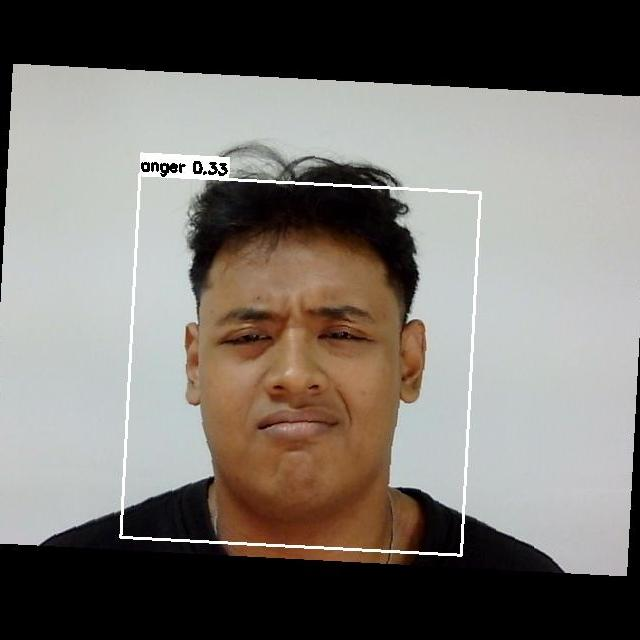Disgust: (183, 275, 404, 466)
